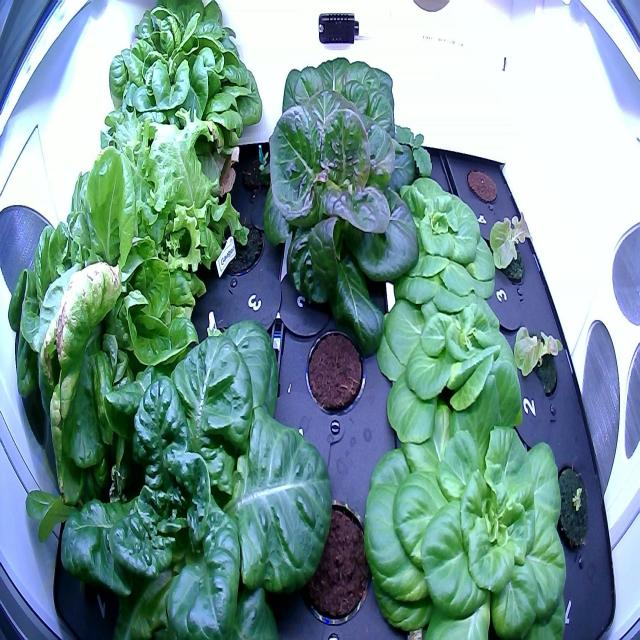Ready: (43, 300, 343, 636), (5, 141, 205, 508), (256, 96, 424, 365), (94, 0, 267, 207), (272, 42, 407, 200)
germination: (237, 136, 284, 202)
pod: (284, 492, 374, 632), (299, 322, 367, 420), (463, 162, 502, 213)
young: (356, 395, 575, 639), (369, 264, 532, 458), (370, 170, 501, 320), (542, 454, 596, 562), (481, 206, 538, 301), (510, 317, 567, 411), (207, 202, 267, 288)
